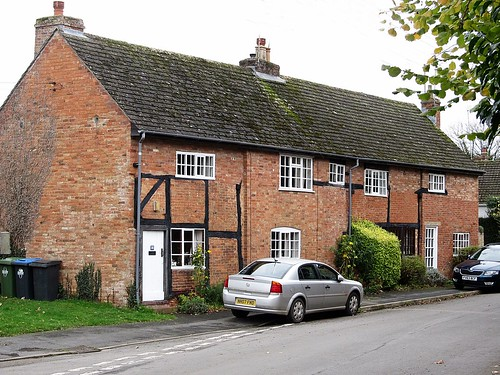high: (2, 22, 486, 314)
